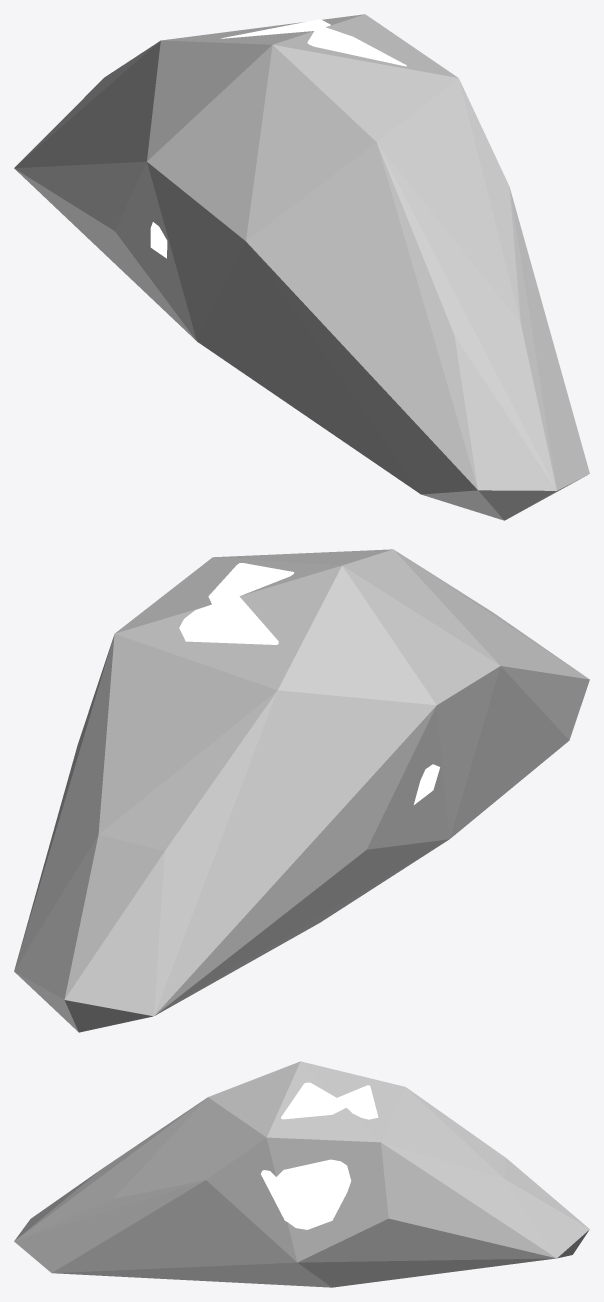
The model's file is SM_Cloud_01.fbx.
The picture shows the model from 3 angles, top to bottom: view 1: azimuth 30°, elevation 25°; view 2: azimuth 150°, elevation 25°; view 3: azimuth 270°, elevation 25°; orthographic projection. The views are drawn at different scales.
Visible parts, largest first — view 1: SM_Cloud_01_ConvexHulls, SM_Cloud_01; view 2: SM_Cloud_01_ConvexHulls, SM_Cloud_01; view 3: SM_Cloud_01_ConvexHulls, SM_Cloud_01.
Boxes of the visible parts, left/top/right/bottom form: SM_Cloud_01_ConvexHulls: left=14, top=14, right=589, bottom=520; SM_Cloud_01: left=150, top=19, right=406, bottom=258; SM_Cloud_01_ConvexHulls: left=14, top=549, right=589, bottom=1032; SM_Cloud_01: left=179, top=563, right=439, bottom=804; SM_Cloud_01_ConvexHulls: left=14, top=1061, right=589, bottom=1287; SM_Cloud_01: left=261, top=1082, right=378, bottom=1229.
Bounding box in the file's own units: 387 × 1016 × 393.
